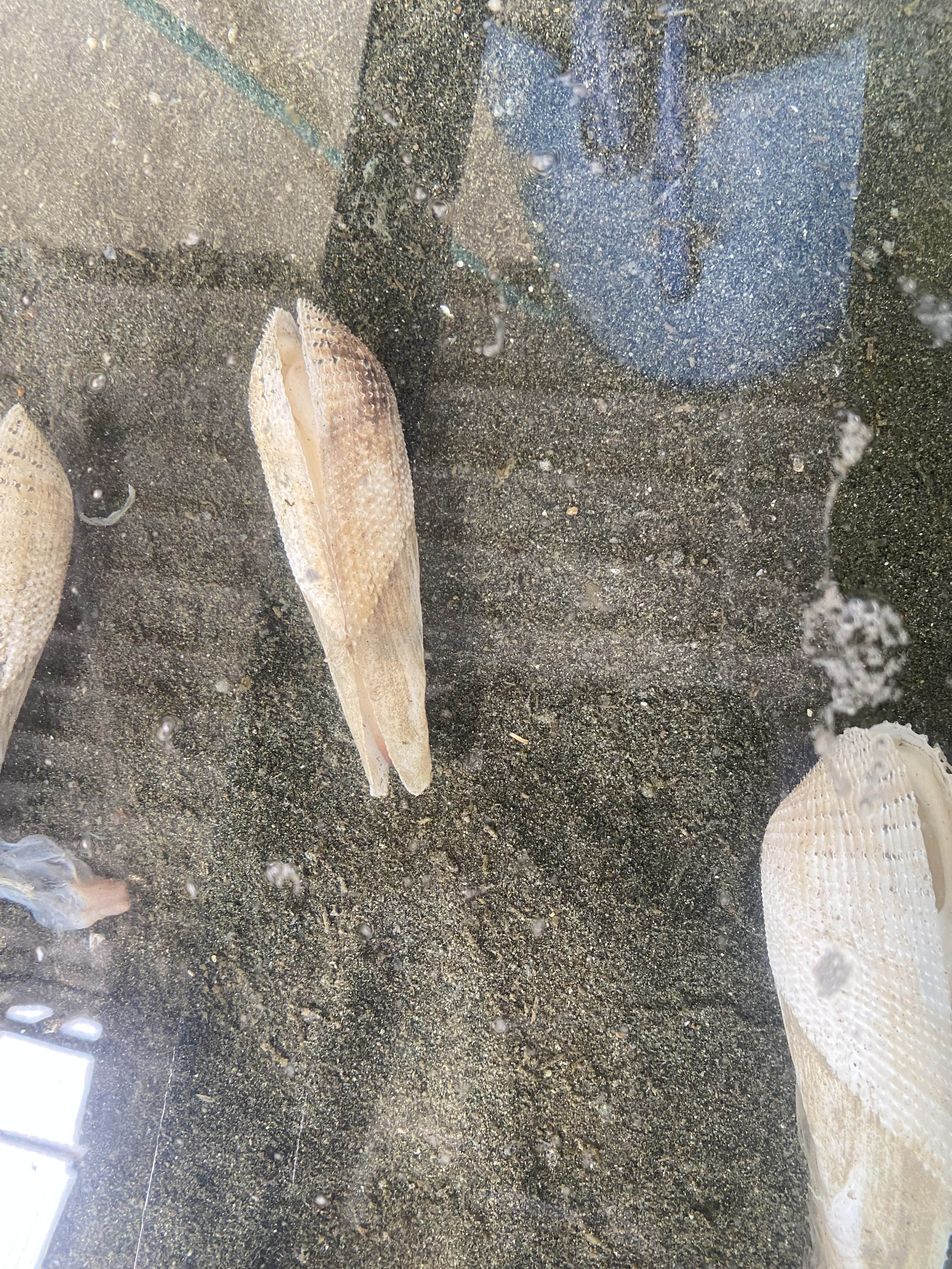At risk: (762, 723, 952, 1269), (249, 299, 431, 796), (0, 405, 72, 764)
